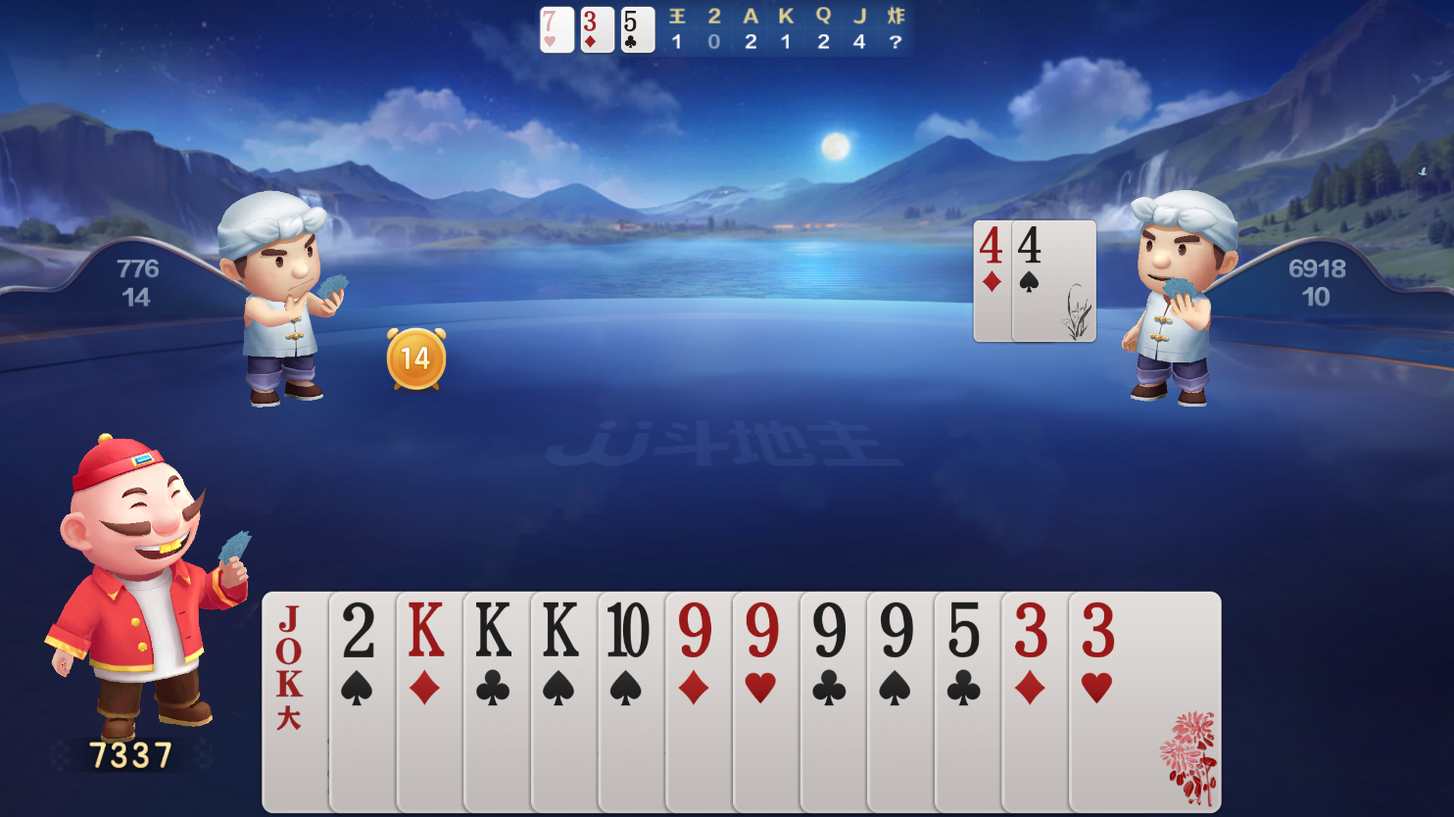JOKER: (264, 598, 315, 703)
K: (400, 596, 454, 665), (469, 596, 522, 666), (535, 596, 587, 666)
five: (942, 599, 990, 668), (619, 6, 644, 36)
four: (1012, 221, 1052, 269), (973, 222, 1009, 268)
nine: (669, 598, 723, 666), (871, 598, 923, 668), (804, 598, 856, 667), (737, 598, 789, 665)
seven: (537, 5, 563, 36)
ten: (602, 597, 655, 667)
three: (1007, 599, 1060, 666), (1074, 598, 1126, 664), (579, 7, 602, 35)
two: (334, 599, 386, 668)
